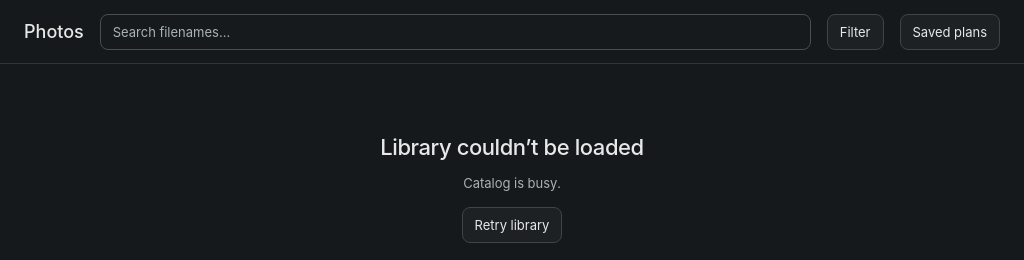
Test: native read failure states › shows query failure without claiming an empty or current result set and retries
Check: the heading "Library couldn’t be loaded" is shown, box top-left (380, 134), bottom-right (644, 160)
Check: the text "No matching photos yet" is not shown
Click the button "Retry library": (512, 225) top-left (462, 207), bottom-right (562, 243)
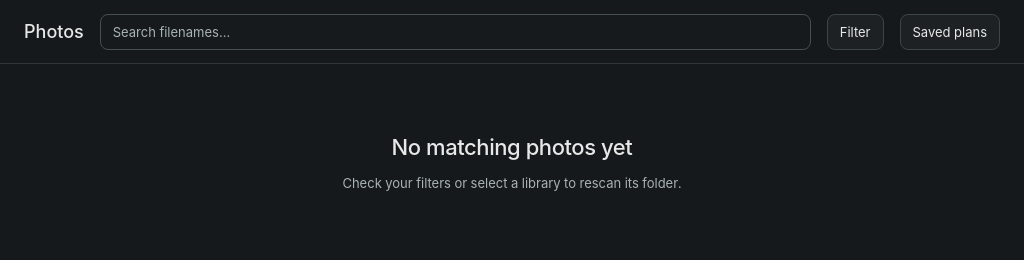
Check: the heading "No matching photos yet" is shown, box top-left (392, 134), bottom-right (632, 160)
